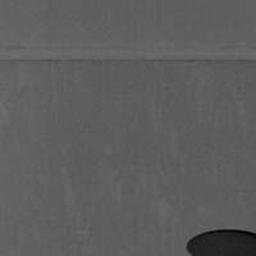Punching: (186, 228, 256, 256)
